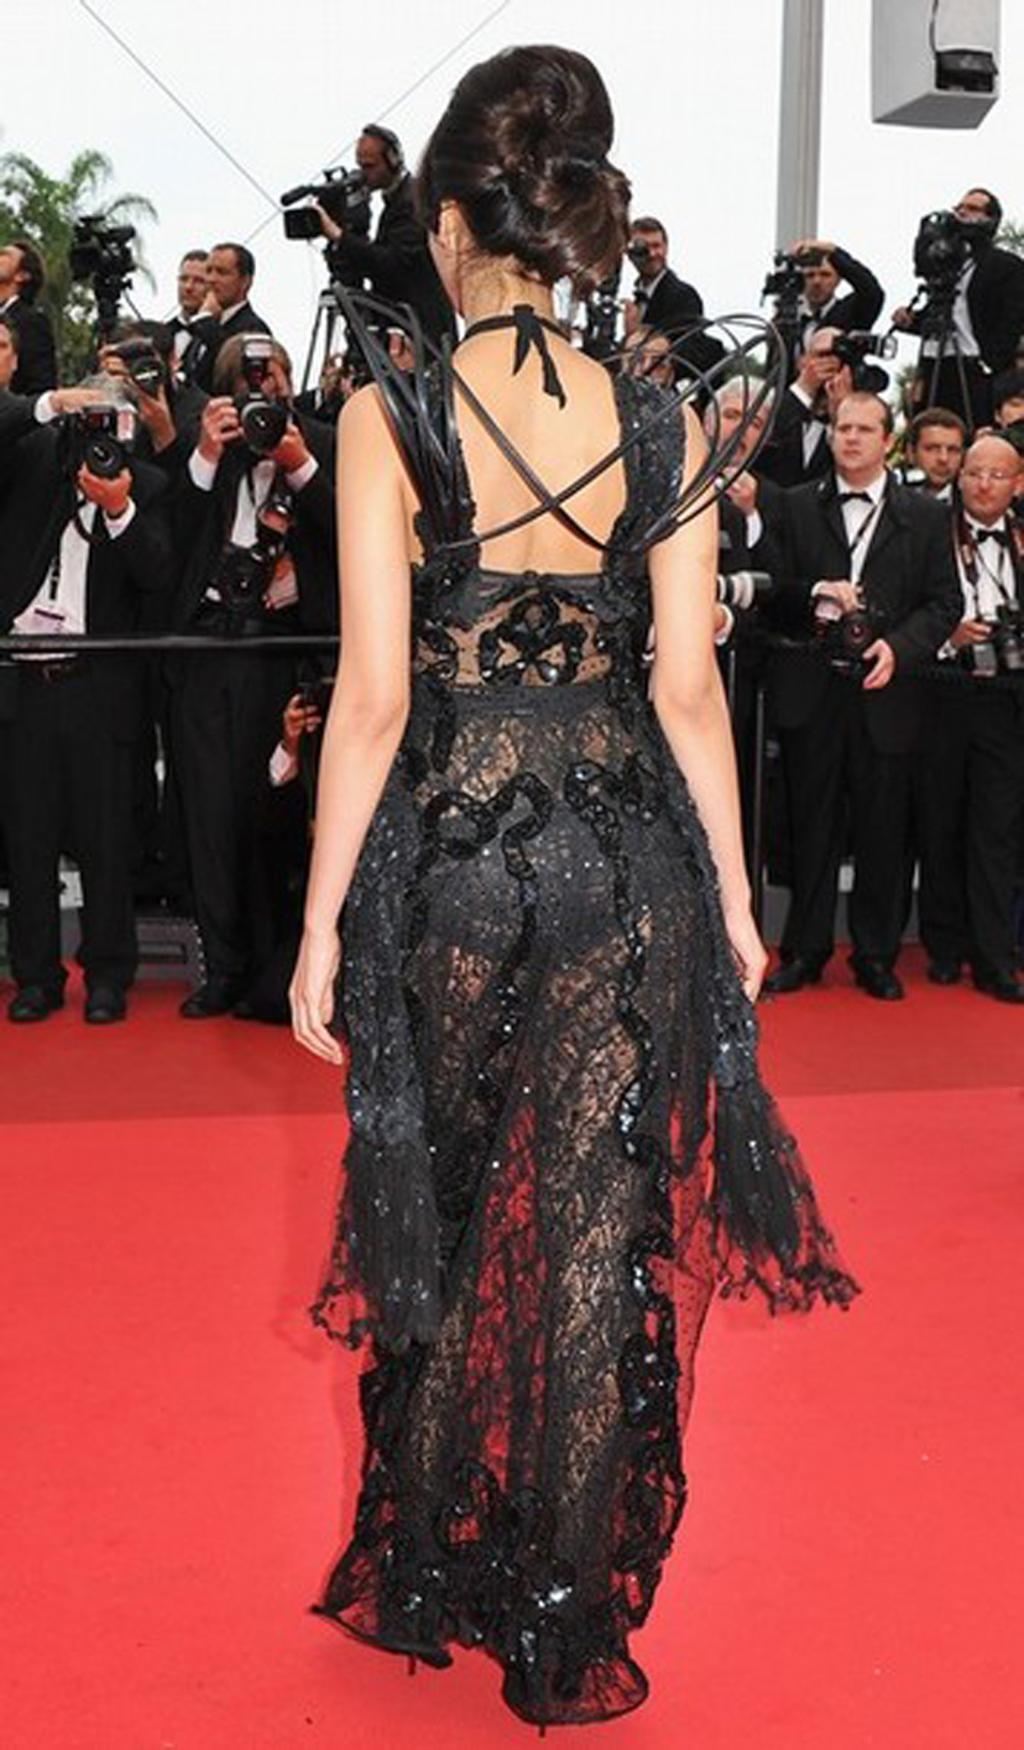face: (224, 371, 292, 444), (715, 401, 772, 462), (833, 405, 884, 470), (966, 455, 1013, 514), (914, 431, 962, 485), (626, 344, 665, 398), (801, 251, 839, 302), (206, 256, 242, 301), (356, 143, 389, 186), (97, 359, 128, 404), (178, 265, 209, 307), (953, 197, 988, 232), (633, 235, 664, 272), (1002, 392, 1024, 443), (0, 243, 21, 279), (0, 330, 13, 380)
